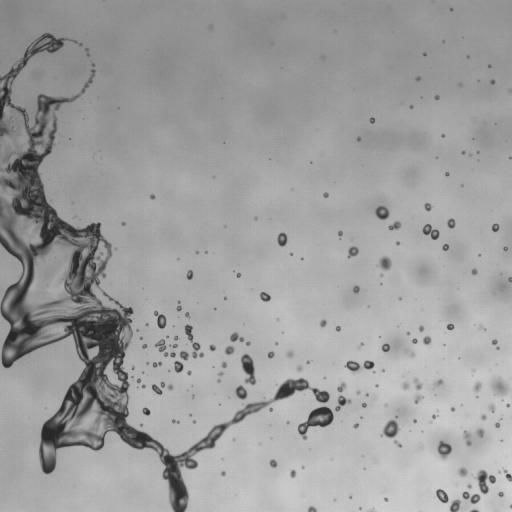droplet: (475, 469, 496, 494), (489, 377, 511, 398), (155, 339, 177, 357), (381, 419, 399, 438), (422, 224, 439, 239), (437, 441, 451, 459), (462, 491, 480, 503), (154, 311, 166, 328), (375, 206, 389, 219), (378, 256, 391, 270), (235, 385, 247, 399), (436, 489, 448, 503), (152, 382, 164, 394), (277, 232, 287, 246), (449, 499, 460, 511), (388, 221, 401, 230), (413, 378, 422, 391), (463, 431, 471, 445), (348, 246, 358, 257), (259, 291, 270, 301), (173, 361, 183, 372), (179, 350, 189, 360), (44, 268, 54, 277), (337, 382, 346, 392), (414, 393, 423, 403), (457, 467, 467, 476), (473, 381, 481, 392), (475, 428, 484, 437), (447, 218, 455, 228), (224, 346, 234, 354), (423, 336, 431, 345), (424, 203, 432, 211), (382, 343, 390, 351), (142, 407, 150, 415), (269, 459, 277, 467), (186, 270, 193, 279), (406, 350, 415, 357), (434, 379, 443, 386), (492, 223, 499, 231), (446, 323, 454, 330), (402, 381, 409, 389), (488, 404, 495, 412), (267, 351, 274, 358), (286, 350, 293, 357), (394, 440, 401, 447), (353, 285, 359, 293), (320, 319, 326, 327), (307, 506, 316, 511), (442, 244, 448, 251), (209, 344, 215, 351), (221, 361, 227, 368), (153, 362, 161, 367), (290, 469, 295, 477), (296, 365, 302, 371), (167, 384, 173, 390), (176, 303, 181, 310), (471, 269, 477, 274), (480, 414, 486, 419), (498, 491, 503, 497), (338, 230, 342, 237), (323, 192, 328, 197), (150, 194, 155, 199), (412, 338, 417, 343), (432, 414, 437, 419), (353, 423, 358, 428), (370, 117, 374, 123), (419, 325, 423, 331), (172, 419, 178, 423), (490, 79, 494, 84), (434, 95, 439, 99), (185, 312, 189, 317), (336, 326, 340, 331), (174, 335, 178, 340), (187, 370, 191, 375), (450, 407, 455, 411), (495, 422, 499, 427), (221, 471, 225, 476), (416, 76, 420, 80), (142, 344, 146, 348), (218, 371, 222, 375), (136, 378, 140, 382), (356, 390, 360, 394), (362, 403, 366, 407), (419, 444, 423, 448), (467, 484, 471, 488), (508, 277, 511, 282), (503, 247, 507, 250), (237, 273, 240, 277), (406, 331, 409, 335), (141, 385, 145, 388), (506, 403, 509, 407), (269, 407, 272, 411), (86, 49, 88, 54), (209, 25, 212, 28), (357, 137, 360, 140), (462, 151, 465, 154), (445, 172, 448, 175), (217, 379, 220, 382), (413, 419, 416, 422), (384, 498, 387, 501), (509, 88, 511, 92), (410, 105, 412, 108), (442, 134, 444, 137), (254, 217, 257, 219), (122, 222, 124, 225), (396, 242, 399, 244), (306, 361, 309, 363), (381, 369, 384, 371), (375, 384, 377, 387), (193, 420, 195, 423), (286, 421, 289, 423), (140, 423, 142, 426), (349, 495, 351, 498), (450, 8, 452, 10), (423, 53, 425, 55), (92, 64, 94, 66), (290, 253, 292, 255), (380, 274, 382, 276), (166, 335, 168, 337), (140, 337, 142, 339), (132, 367, 134, 369), (366, 393, 368, 395), (302, 466, 304, 468)
ligament: (0, 33, 351, 511), (185, 324, 203, 358), (240, 354, 256, 385), (345, 360, 374, 373), (230, 332, 250, 345), (502, 468, 511, 481), (492, 339, 498, 349), (72, 40, 81, 45), (479, 325, 485, 330), (367, 508, 376, 511), (358, 343, 363, 348), (470, 509, 479, 511), (510, 505, 511, 508)
